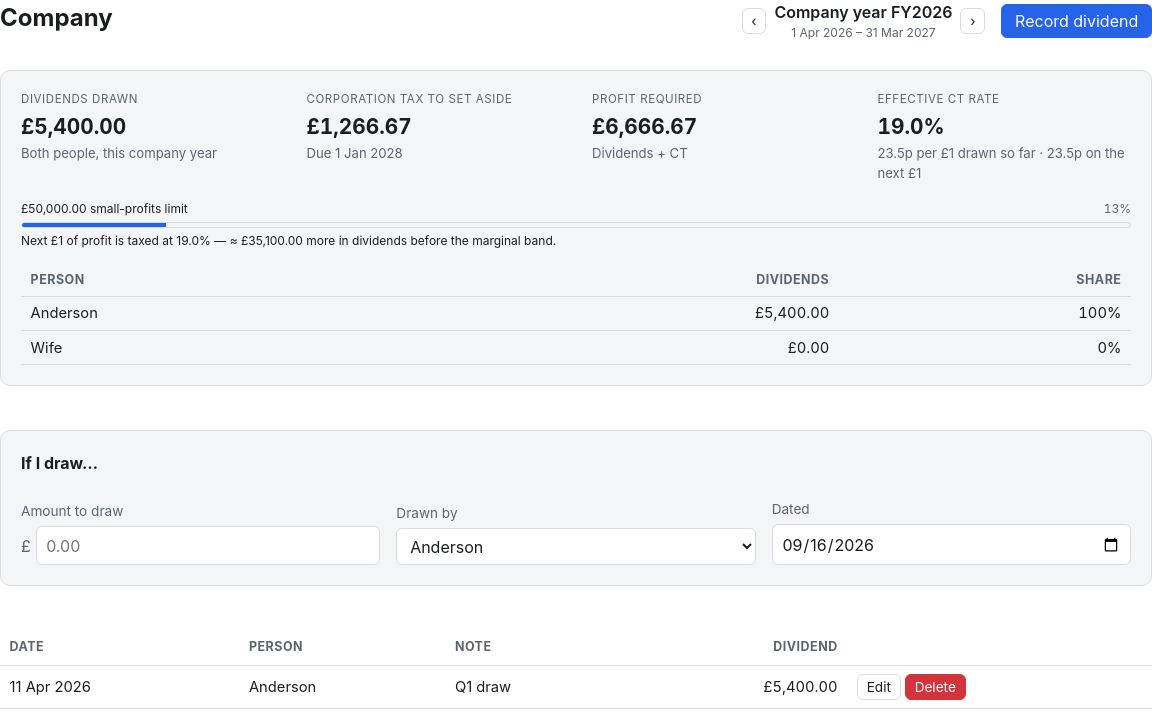
Test: Company tab ledger › edits a dividend in place, including moving it to the other person
This screenshot has width=1152, height=720.
Expected: the text "Q1 draw" is shown, [445,665,625,709]
Click the button "Edit" at (879, 687), box [857,674,901,700]
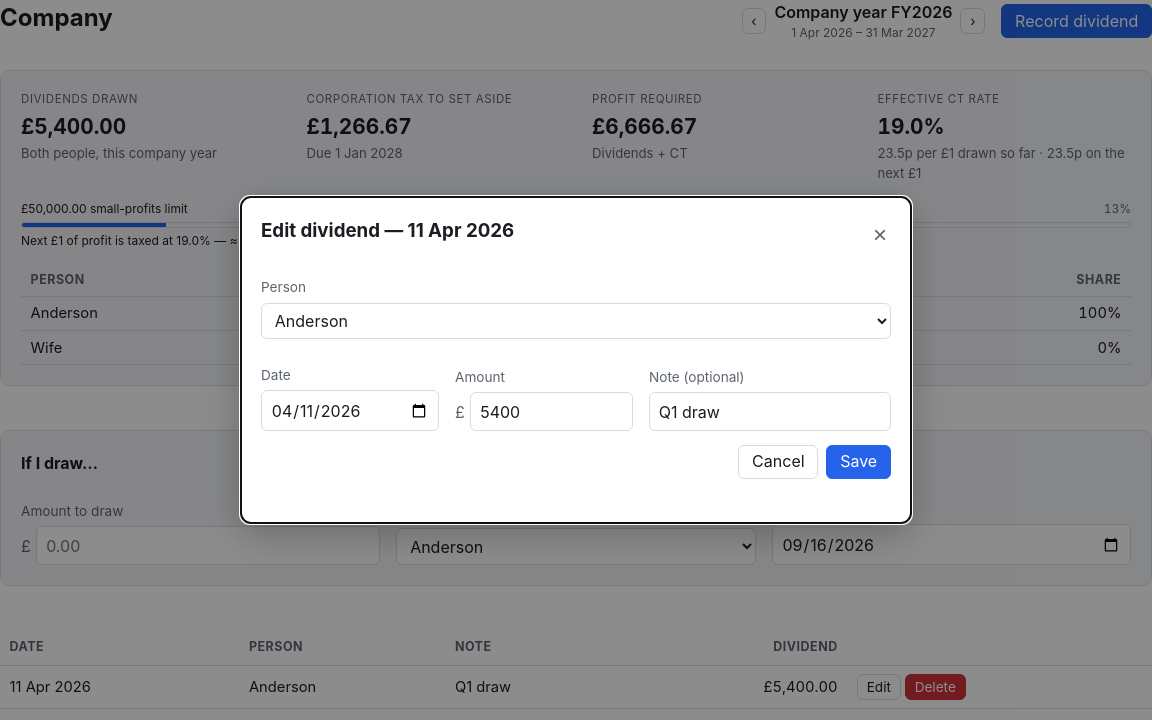
Select "Wife" in the dropdown labelled "Person" at (576, 321), box [261,303,891,340]
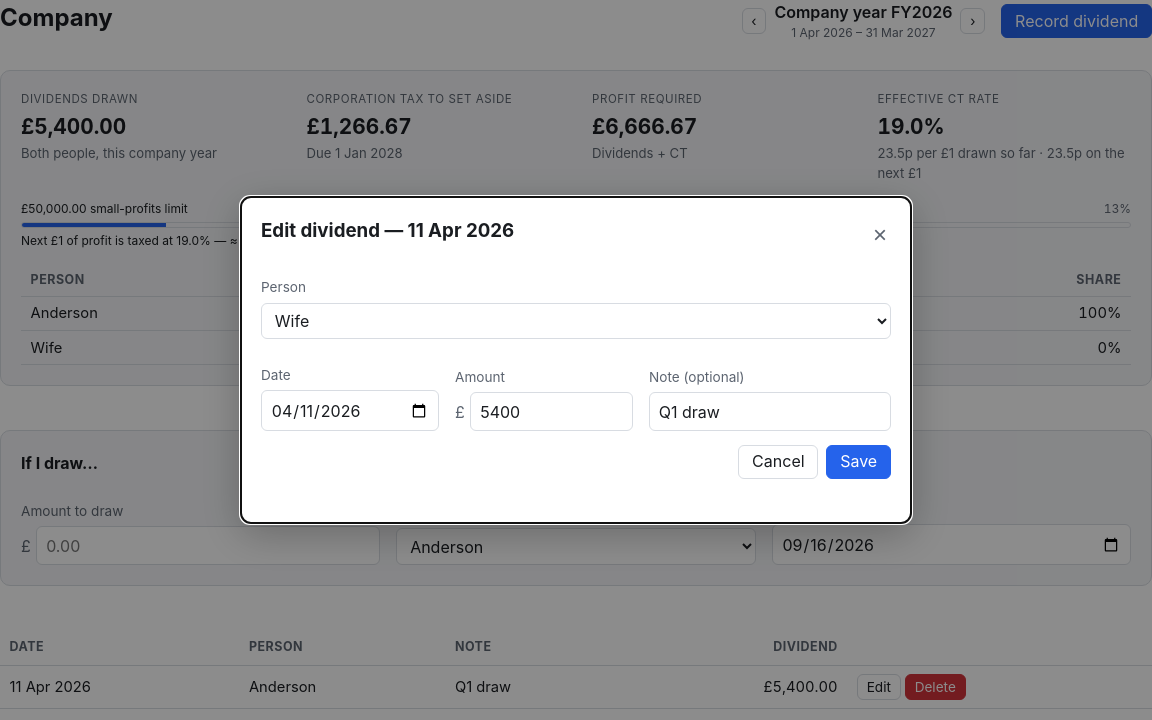
Replace the text in the 1st field with "6000" at (552, 412), box [470,392,633,431]
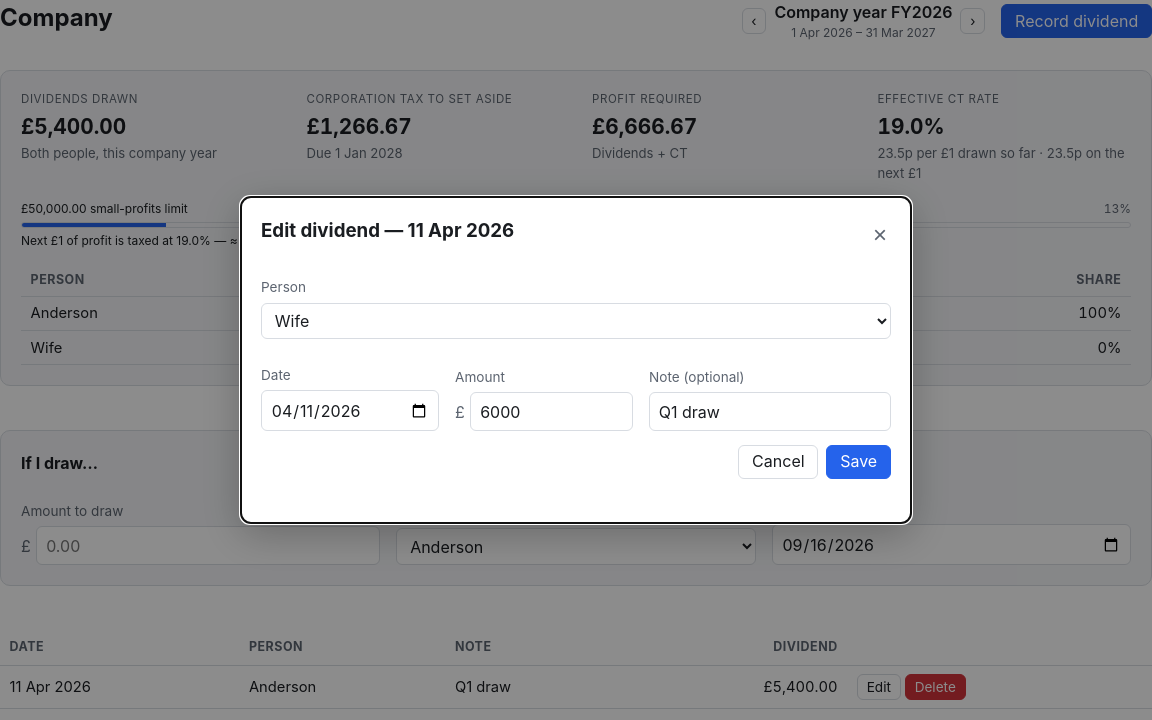
Click the button "Save" at (859, 462), box [826,445,891,479]
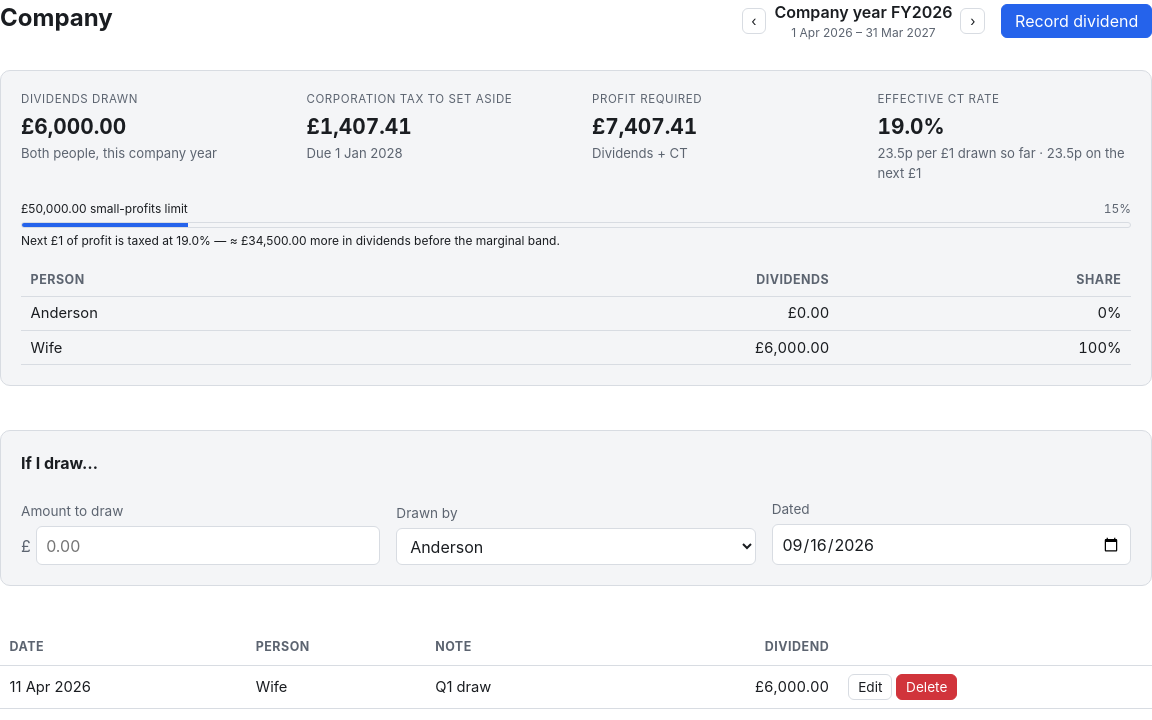
Now the text "£6,000.00" below "Dividends drawn" is shown, box [21,114,126,139]
